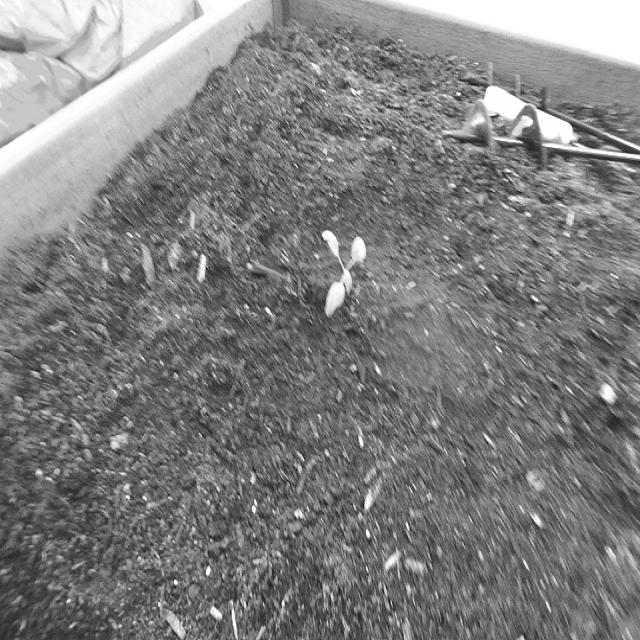Unhealthy: (317, 218, 368, 319)
